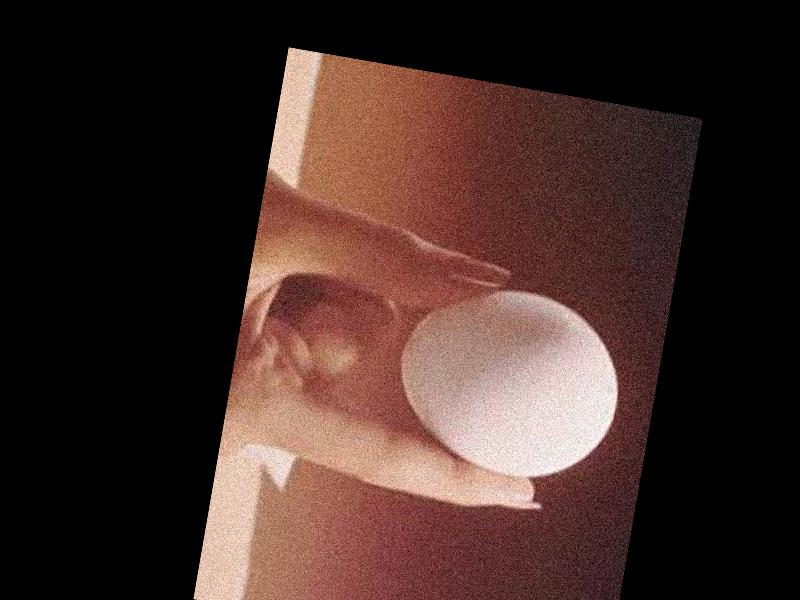Eggs: (384, 272, 633, 493)
